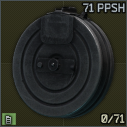PPSh-41 7.62x25 71-round drum magazine: (0, 0, 127, 127)
